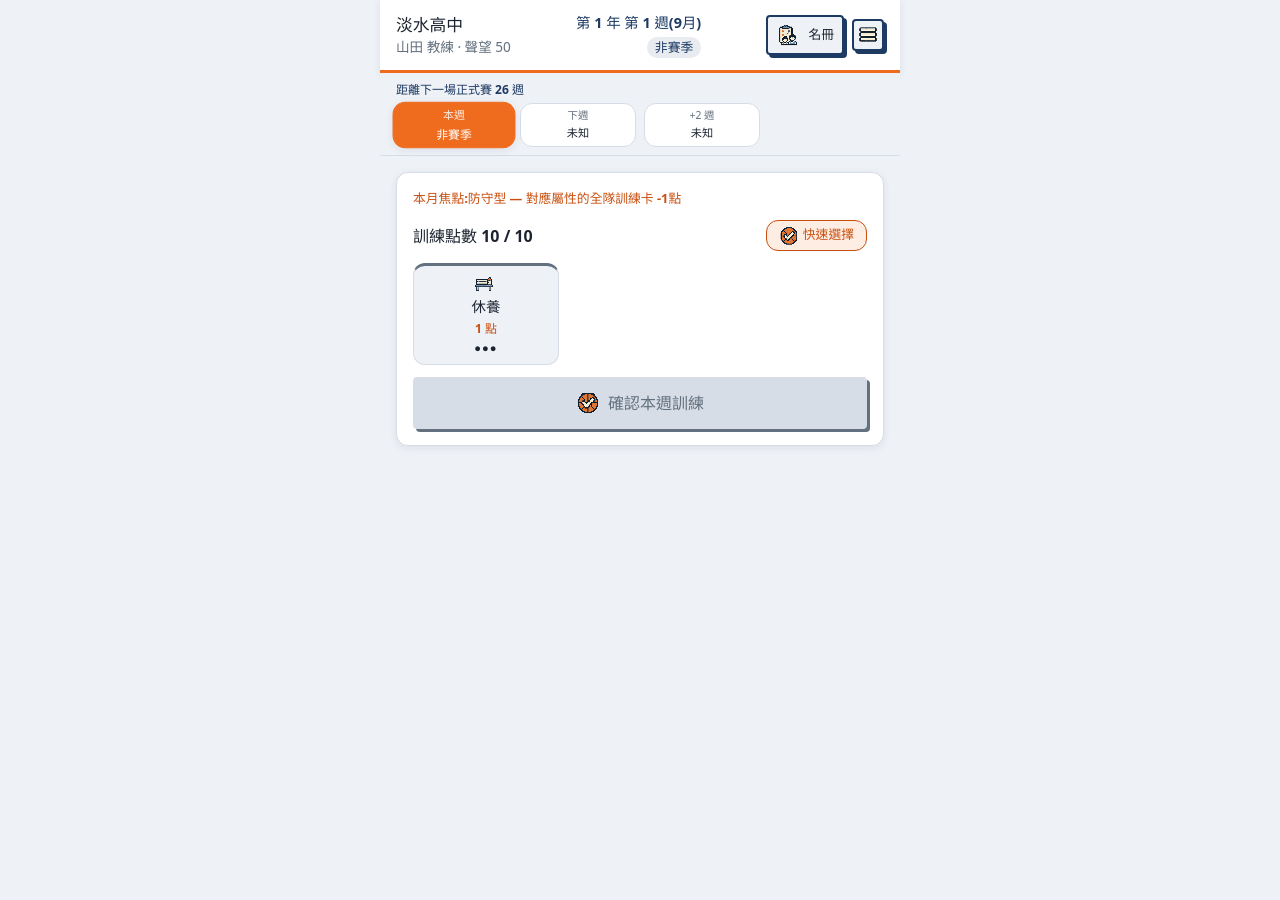
App › advances the week and reports the result after a rest card
Click the button "休養 1 點 ●●●". click: (486, 314)
box: [413,263,559,365]
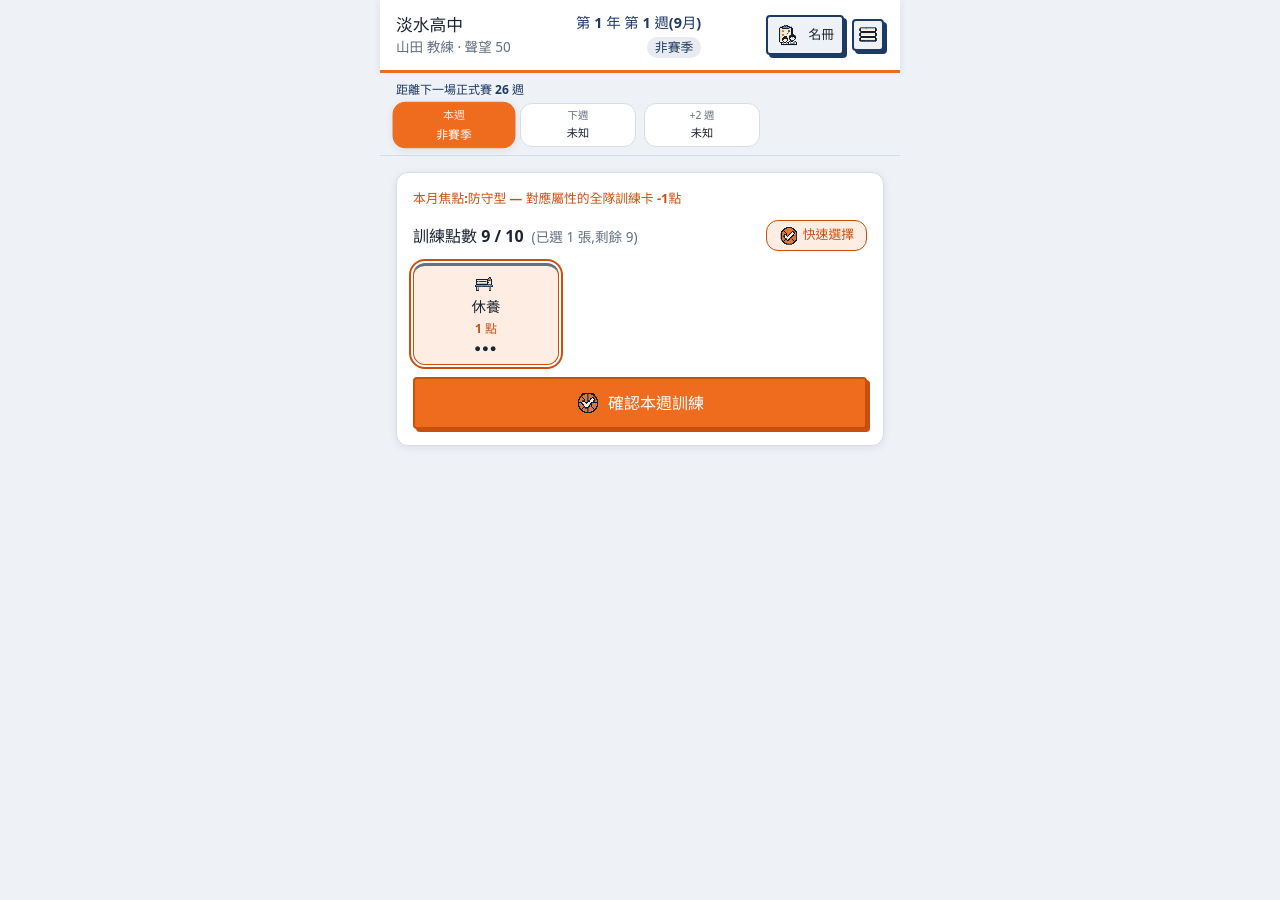
Click the button "確認本週訓練". click: (640, 403)
box: [413,377,867,429]
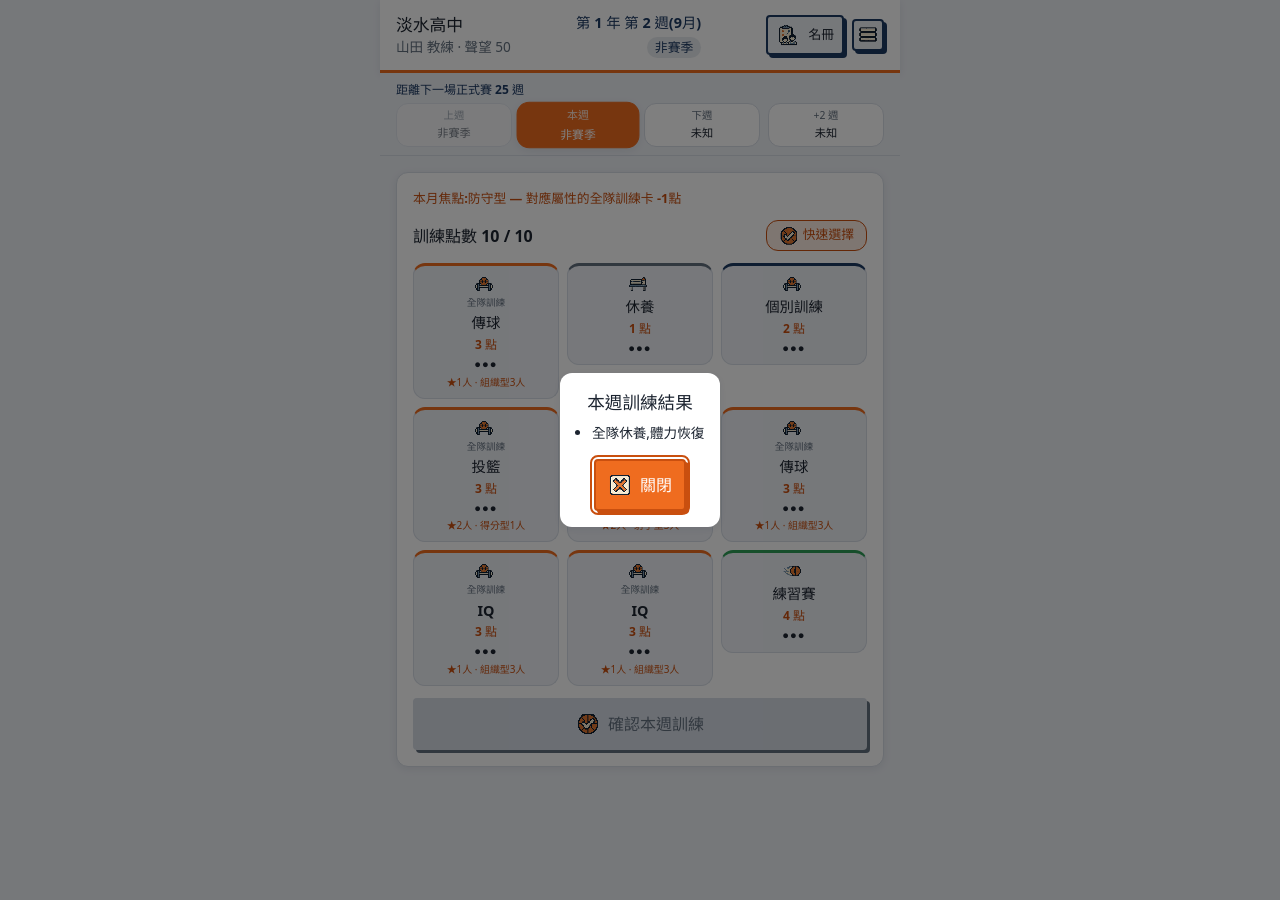
Expected: the list item "全隊休養,體力恢復" is shown, [592,423,704,443]
